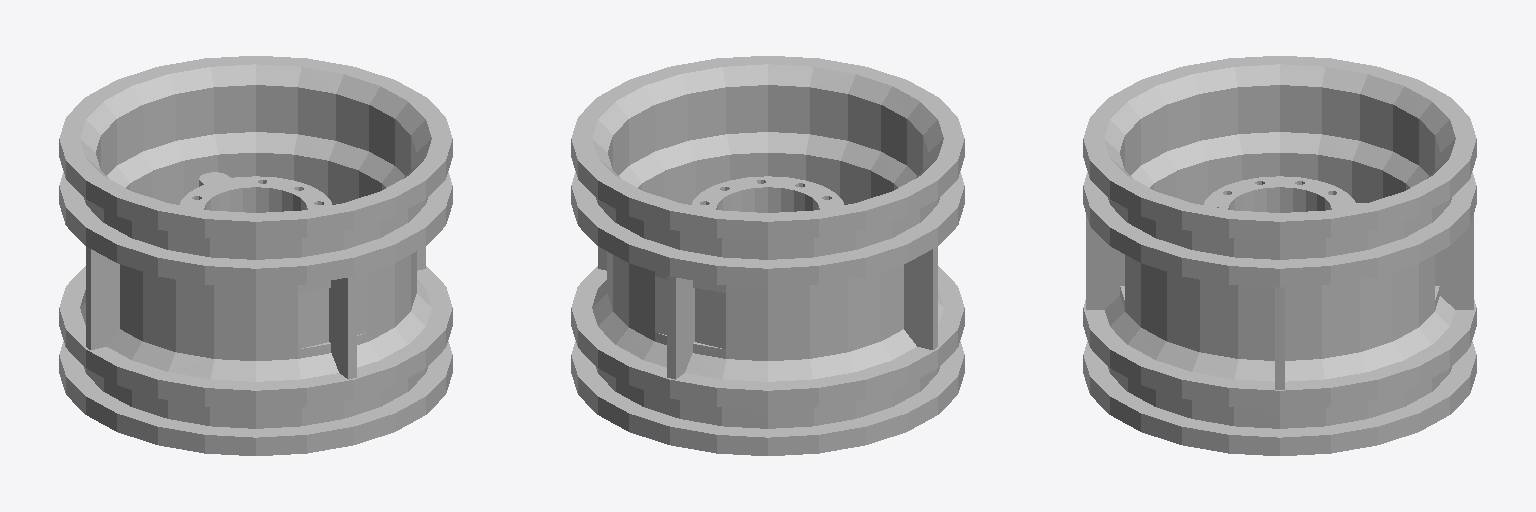
Rendered from Piece012.obj.
3 renders of one model, left to right at view 1: azimuth 30°, elevation 25°; view 2: azimuth 150°, elevation 25°; view 3: azimuth 270°, elevation 25°, orthographic.
Visible parts, largest first — view 1: Piece000; view 2: Piece000; view 3: Piece000.
Part boxes in pixels (x1,y1,x2,y2): Piece000: (59,56,452,455); Piece000: (571,56,964,455); Piece000: (1083,56,1476,455).
Bounding box in the file's own units: 76 × 50 × 76.